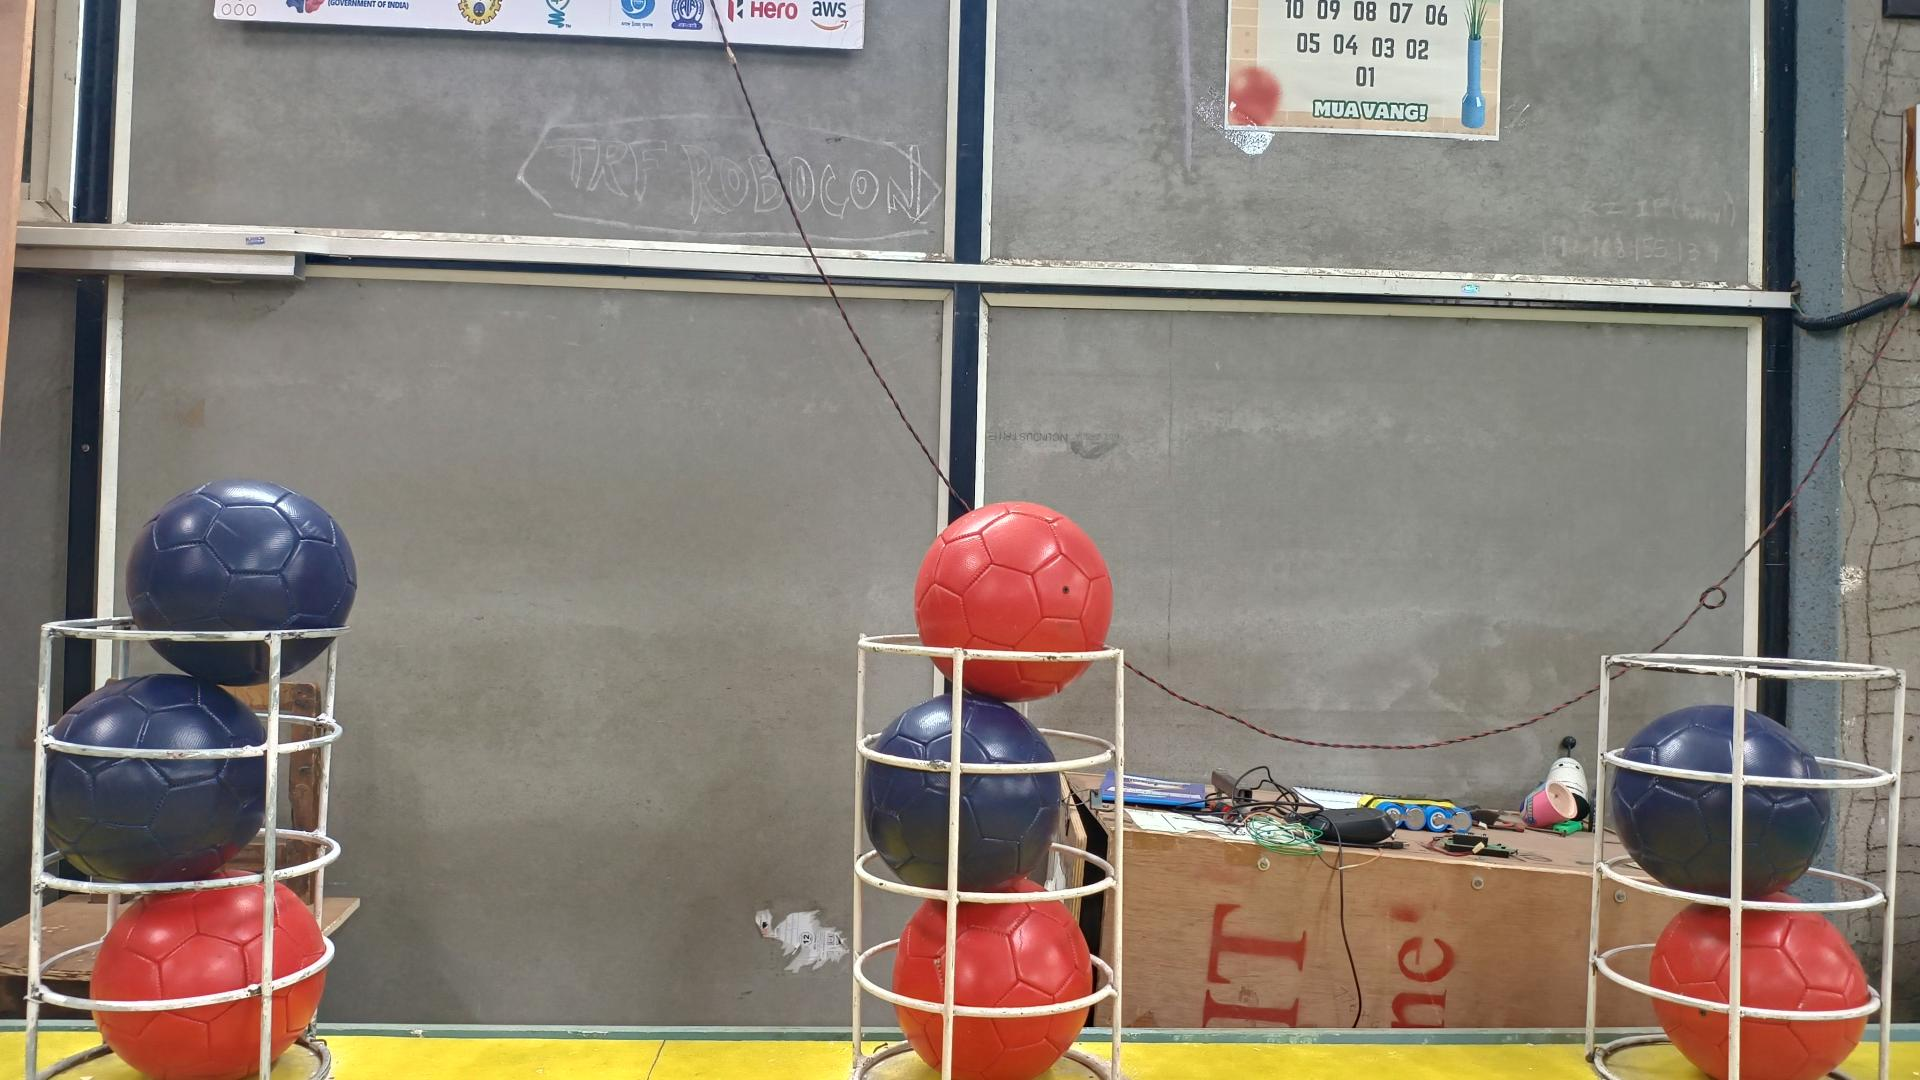dhoka: (124, 480, 356, 690), (45, 675, 266, 881), (1609, 705, 1834, 903), (862, 694, 1065, 893)
laale: (90, 885, 330, 1080), (1650, 893, 1871, 1080), (893, 877, 1095, 1080), (915, 502, 1114, 702)
